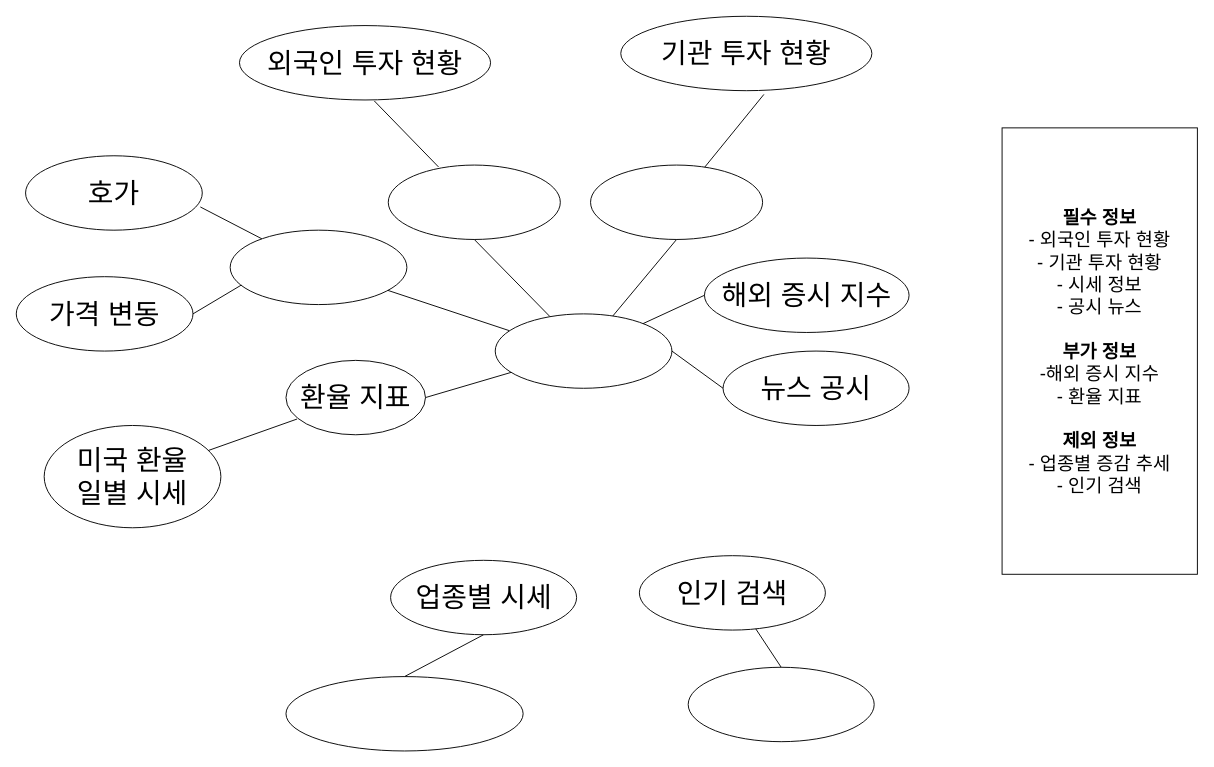
This 1214x767 diagram has some shape labels left out. The shapes that lost their labels are listed below. From the top down, each one's box as (x1, y1, x2, y2) in pixels, then its label:
(387, 164, 560, 239): 외국인 매매
(590, 164, 763, 239): 기관 매매
(229, 229, 407, 305): 시세 정보
(494, 313, 672, 388): 주식 정보
(285, 676, 523, 751): 업종별 증감 추세
(687, 666, 874, 742): 관심 종목
